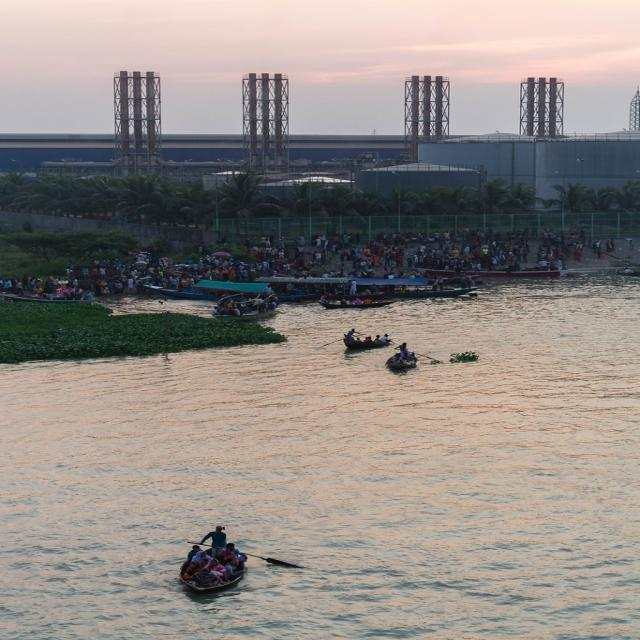Hyacinth: (0, 304, 278, 367), (451, 351, 479, 365)
boat: (179, 540, 249, 600), (337, 329, 395, 355), (384, 350, 426, 378), (207, 308, 277, 320), (316, 299, 394, 308)
